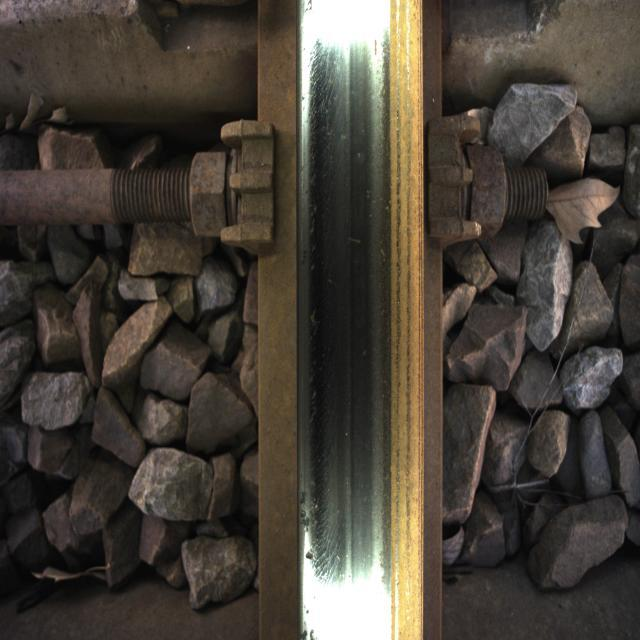break: (310, 6, 379, 622)
